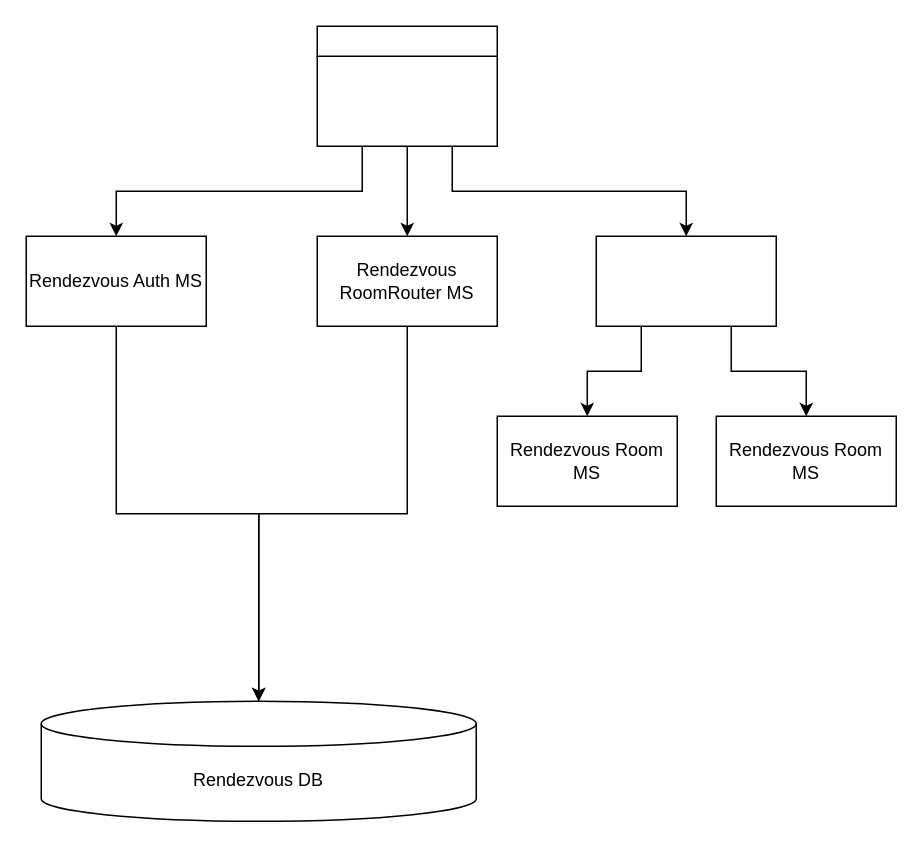
Some shapes in this 923 by 848 pixel diagram are drawn without their labels. Each missing label, with the centre of its shape:
Rendezvous Room UI MS: pixel 685 280
Rendezvous UI MS: pixel 406 100
RESTful APIs: pixel 406 40
